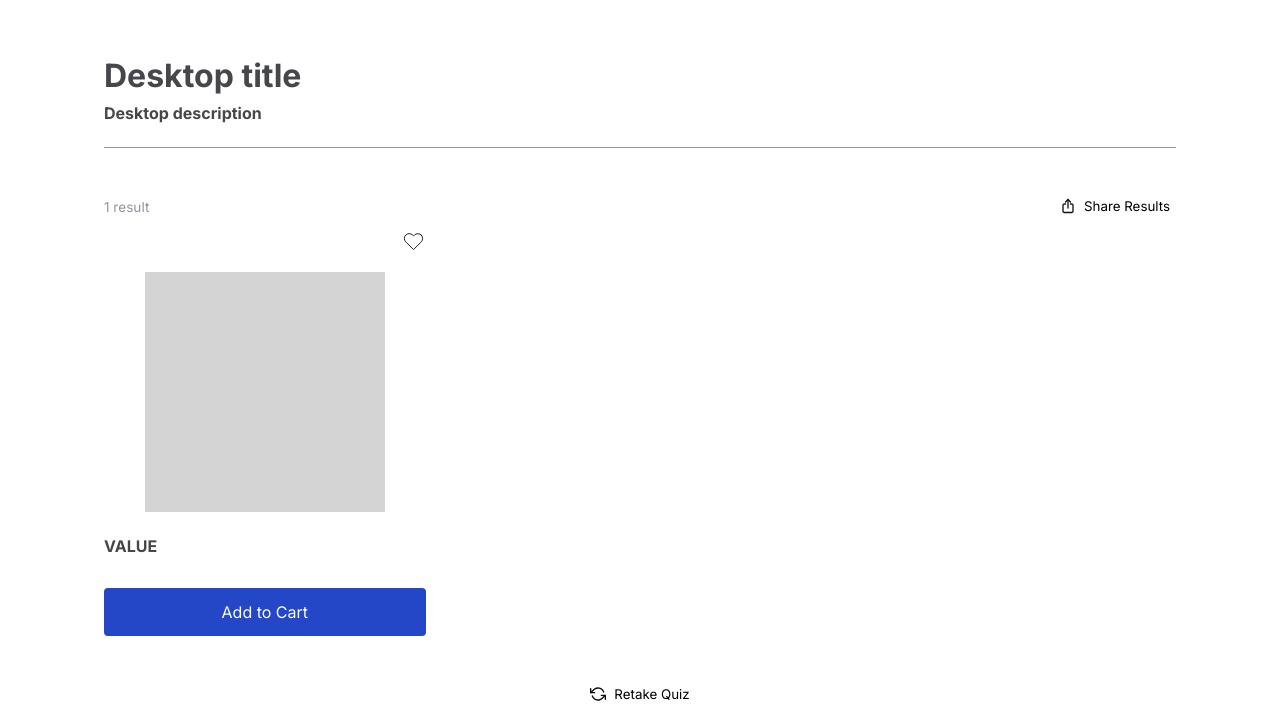
it: loaded services with results › share results
Check: the heading "Desktop title" is shown, box [104, 56, 301, 95]
Click the button "Share Results" at (1115, 206), box [1054, 196, 1176, 215]
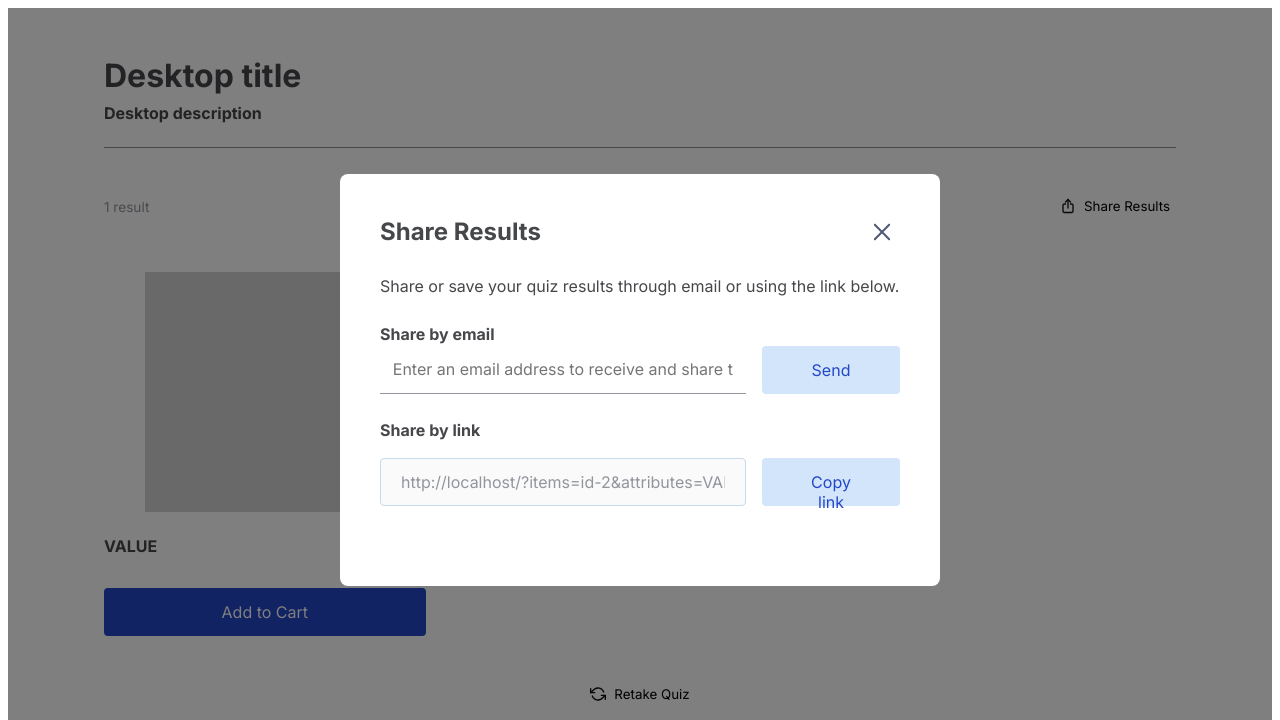
Check: the text "Share or save your quiz results through email or" is shown, box [380, 276, 899, 296]
Click the button named "Close button" at (882, 232), box [864, 214, 900, 250]
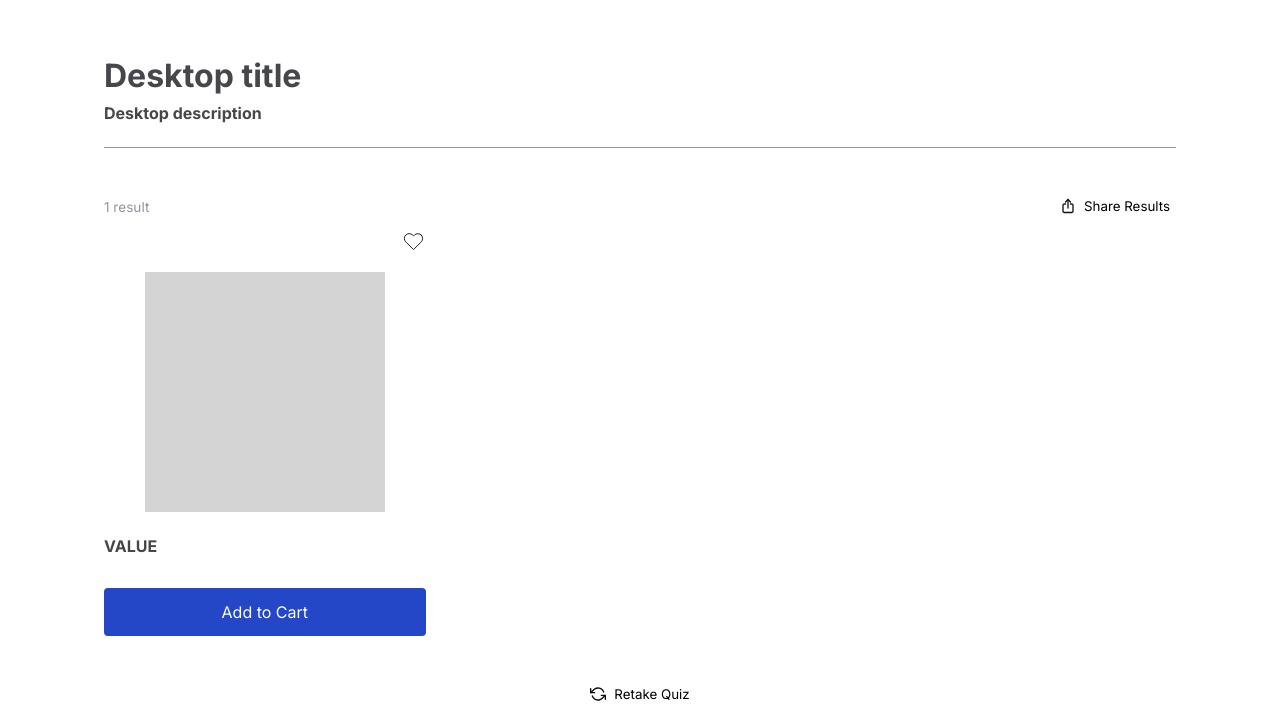
Check: the text "Share or save your quiz results through email or" is gone
